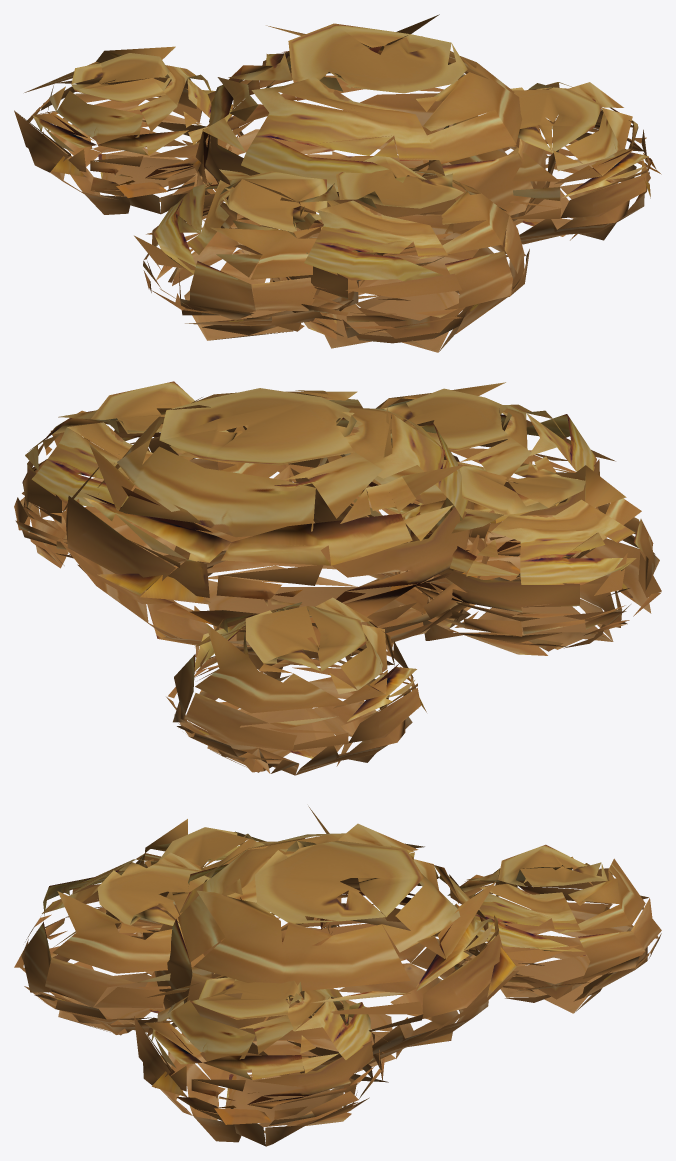
Rendered from desert_boulder_heap_lod1.glb.
3 views of the same model, one above another, from view 1: azimuth 30°, elevation 25°; view 2: azimuth 150°, elevation 25°; view 3: azimuth 270°, elevation 25° (orthographic). The views are drawn at different scales.
Parts seen in each view (by area): view 1: desert_boulder_heap.001; view 2: desert_boulder_heap.001; view 3: desert_boulder_heap.001.
Boxes of the visible parts, x1,y1,x2,y2 form: desert_boulder_heap.001: (14, 14, 661, 352); desert_boulder_heap.001: (14, 381, 661, 775); desert_boulder_heap.001: (14, 806, 661, 1146).
Size of the model in its own units: 2.32 by 0.8751 by 2.57.
Materials: 1 (1 with a texture image).
